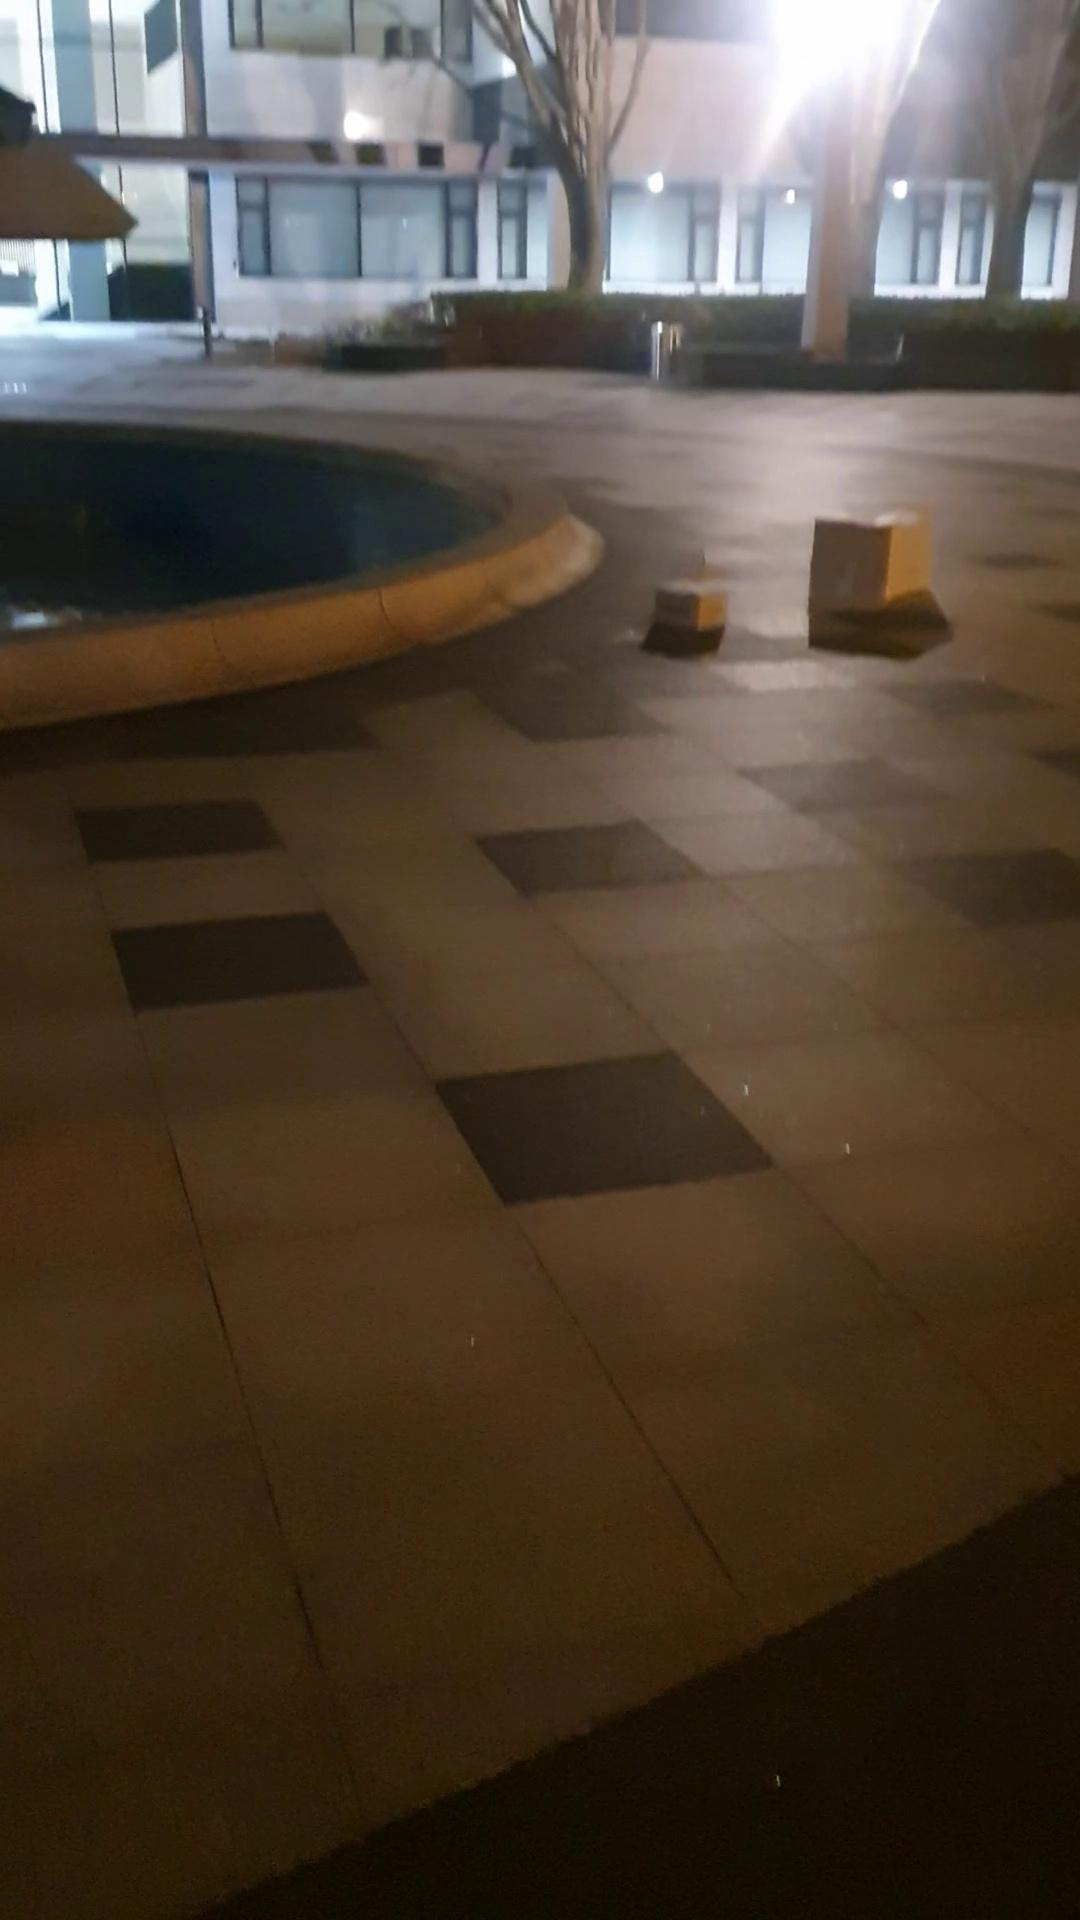Box: (806, 505, 952, 626), (644, 568, 729, 636)
